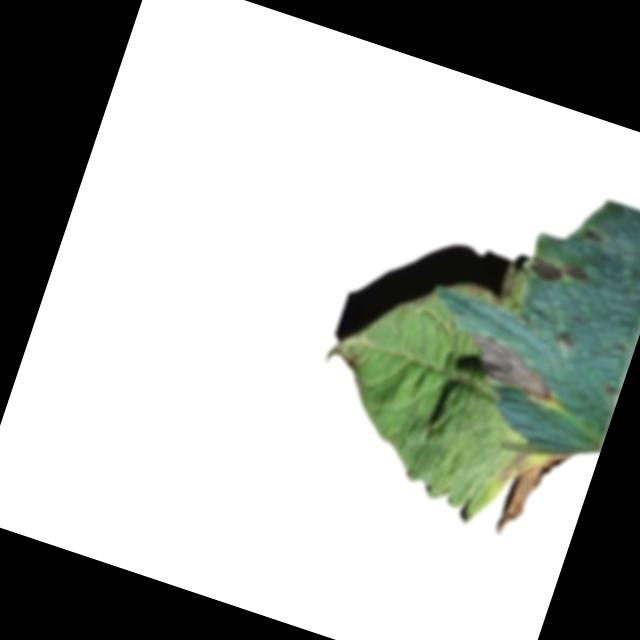Early_blight: (483, 431, 573, 547), (457, 327, 566, 407), (526, 252, 591, 292), (555, 328, 577, 351)
